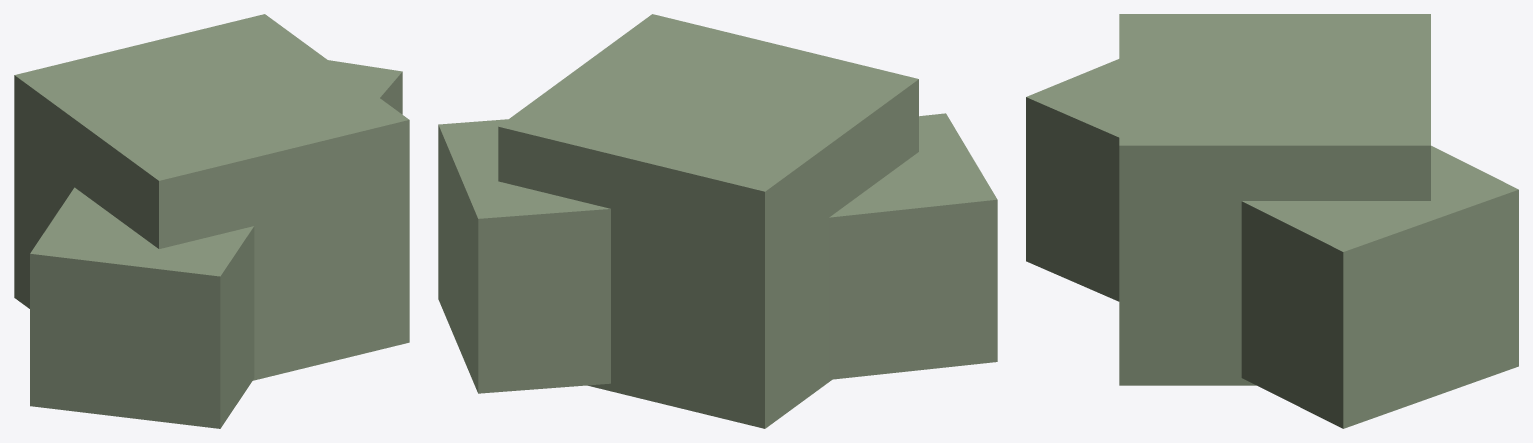
File: shrub_blockout.glb
3 views of the same model, side by side, from view 1: azimuth 30°, elevation 25°; view 2: azimuth 150°, elevation 25°; view 3: azimuth 270°, elevation 25° (orthographic). The views are drawn at different scales.
Parts seen in each view (by area): view 1: props_shrub_blockout; view 2: props_shrub_blockout; view 3: props_shrub_blockout.
Part boxes in pixels (x1,y1,x2,y2): props_shrub_blockout: (14, 14, 409, 428); props_shrub_blockout: (438, 14, 997, 428); props_shrub_blockout: (1026, 14, 1518, 428).
Size of the model in its own units: 1.7 by 0.8075 by 1.5.
